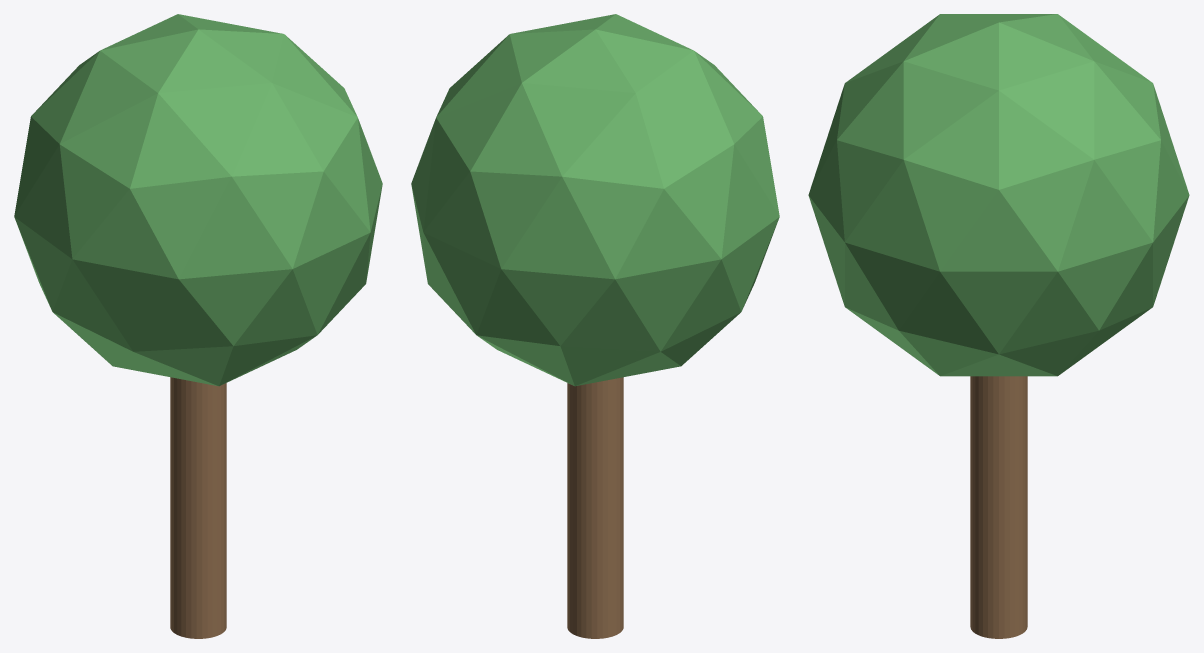
The model's file is tree.glb.
3 views of the same model, side by side, from view 1: azimuth 30°, elevation 25°; view 2: azimuth 150°, elevation 25°; view 3: azimuth 270°, elevation 25° (orthographic).
Visible parts, largest first — view 1: tree; view 2: tree; view 3: tree.
Part boxes in pixels (x1,y1,x2,y2): tree: (14, 14, 382, 638); tree: (411, 14, 779, 638); tree: (808, 14, 1189, 638).
Bounding box in the file's own units: 3.8 × 7 × 4.
